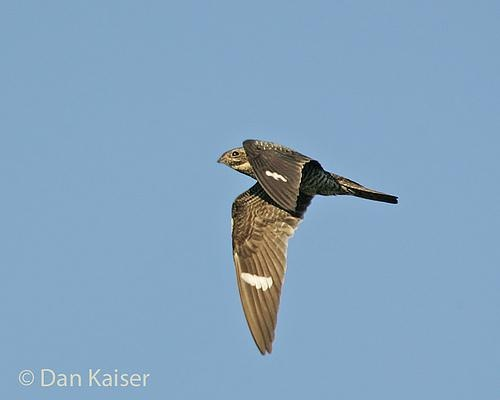bird: (213, 135, 398, 355)
